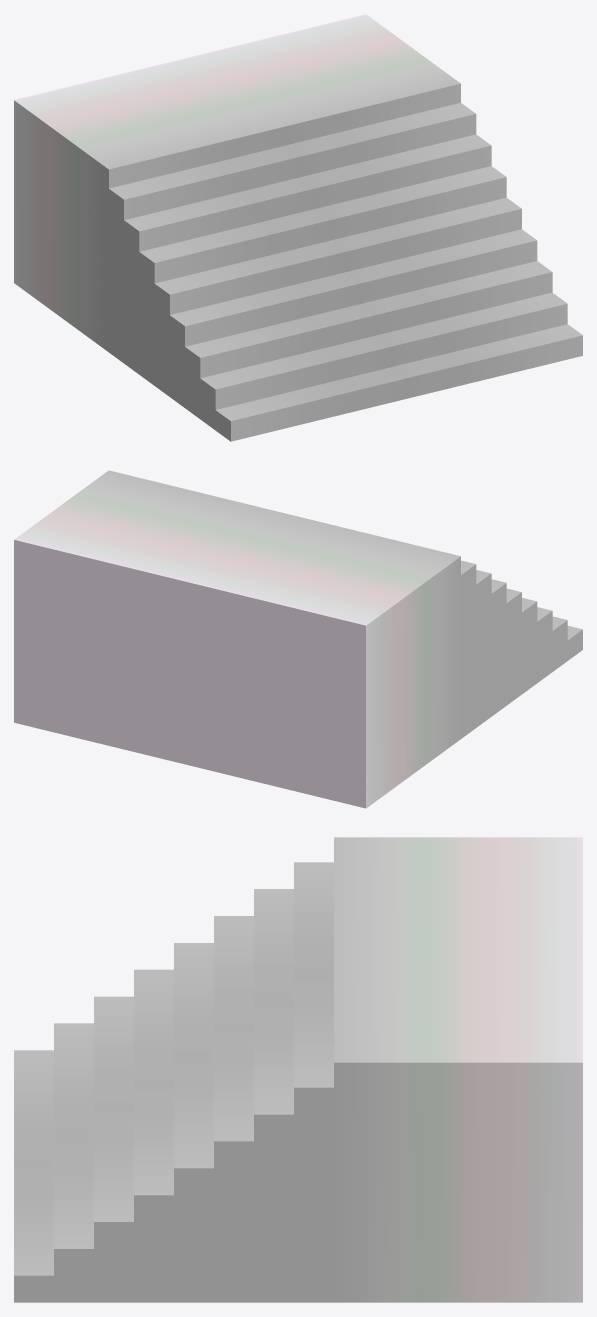
File: SkateboardStairsetCement.glb
The picture shows the model from 3 angles, top to bottom: view 1: azimuth 30°, elevation 25°; view 2: azimuth 150°, elevation 25°; view 3: azimuth 270°, elevation 25°; orthographic projection. The views are drawn at different scales.
Visible parts, largest first — view 1: SkateboardStairsetCement; view 2: SkateboardStairsetCement; view 3: SkateboardStairsetCement.
Part boxes in pixels (x1,y1,x2,y2): SkateboardStairsetCement: (14,14,582,441); SkateboardStairsetCement: (14,470,582,808); SkateboardStairsetCement: (14,837,582,1302).
Size of the model in its own units: 4 by 1.99 by 4.27.
Materials: 1 (1 with a texture image).
